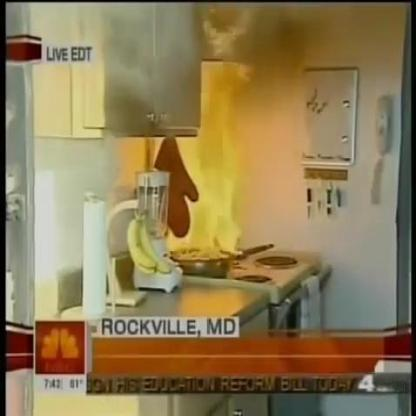fire: (149, 57, 252, 260)
